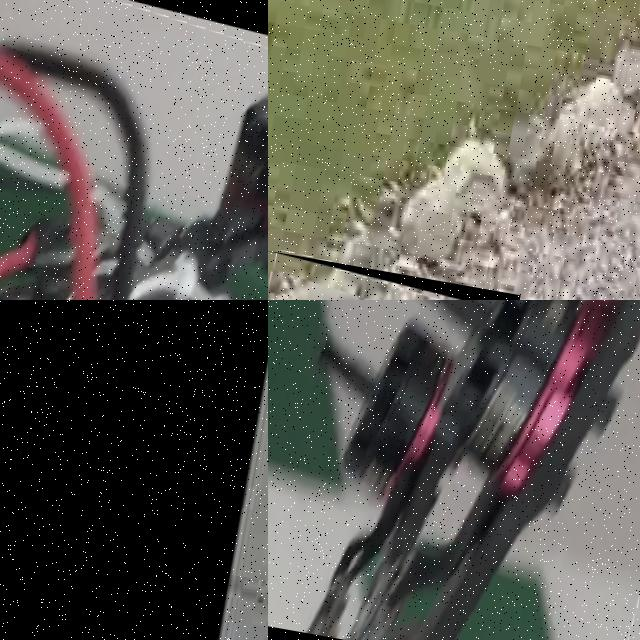drone: (268, 300, 640, 640), (0, 0, 268, 300)
